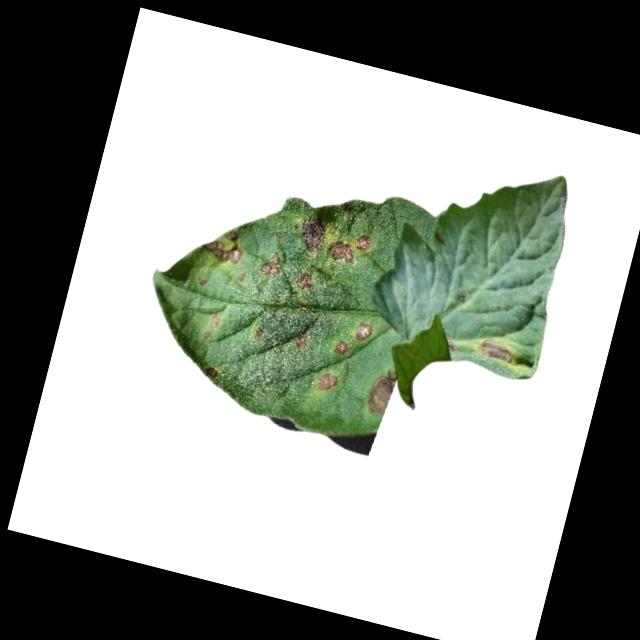Early_blight: (198, 220, 250, 269), (475, 331, 524, 373), (363, 366, 399, 418), (290, 212, 331, 257), (325, 234, 358, 264), (313, 370, 343, 396), (259, 249, 285, 279), (352, 316, 376, 344), (293, 266, 316, 292), (202, 361, 224, 382), (355, 232, 375, 253), (293, 332, 310, 351), (332, 338, 350, 355), (206, 311, 223, 329), (251, 324, 267, 343)
